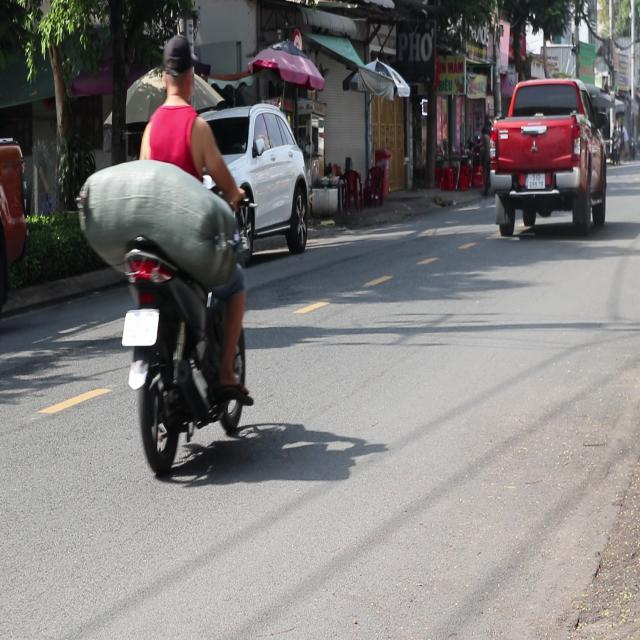licenseplate: (98, 32, 255, 480)
motorcyclist: (160, 34, 195, 103)
nohelmet: (122, 308, 158, 344)
